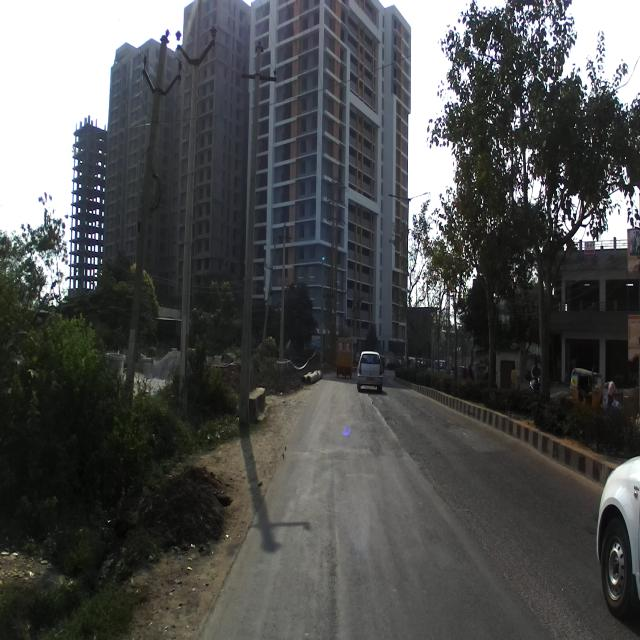electric pole ahead at: (167, 13, 220, 403), (233, 42, 264, 434)
